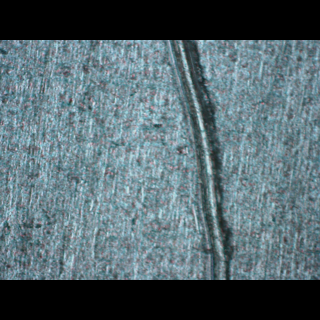d: (162, 40, 234, 280)
